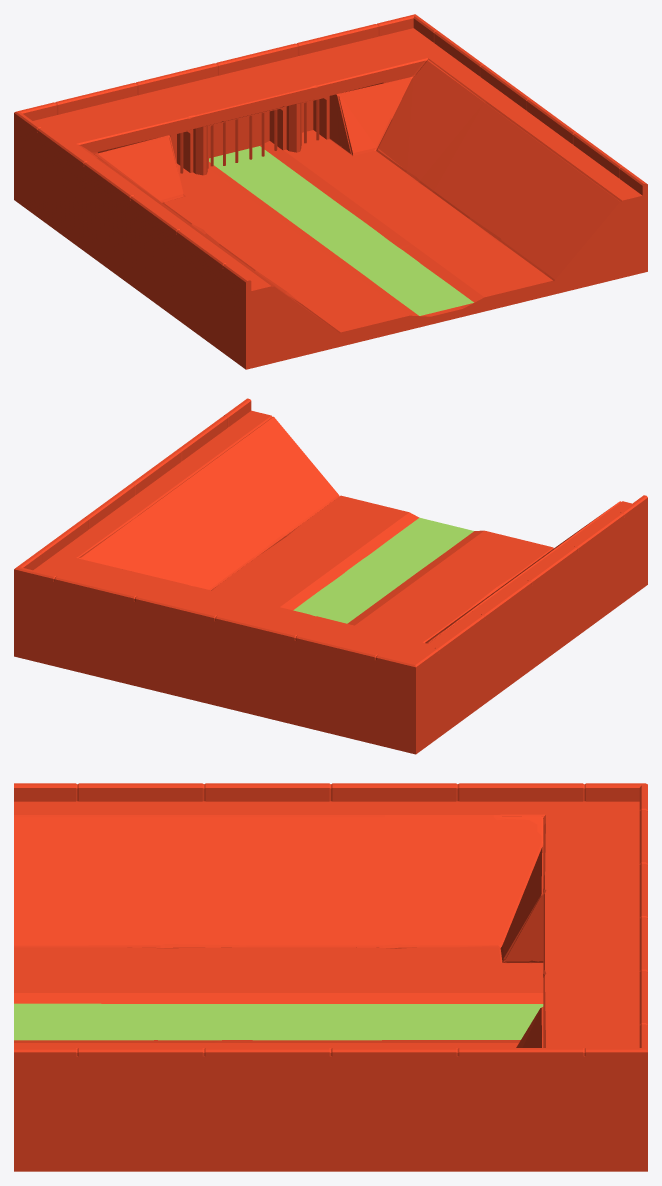
The model's file is SM_Canal_End_City.fbx.
The picture shows the model from 3 angles, top to bottom: view 1: azimuth 30°, elevation 25°; view 2: azimuth 150°, elevation 25°; view 3: azimuth 270°, elevation 25°; orthographic projection. The views are drawn at different scales.
Parts seen in each view (by area): view 1: SM_Canal_End_City; view 2: SM_Canal_End_City; view 3: SM_Canal_End_City.
Boxes of the visible parts, bbox=[...] form: SM_Canal_End_City: bbox=[14, 14, 647, 369]; SM_Canal_End_City: bbox=[14, 398, 647, 754]; SM_Canal_End_City: bbox=[14, 783, 647, 1171].
Bounding box in the file's own units: 30 × 6.32 × 30.
